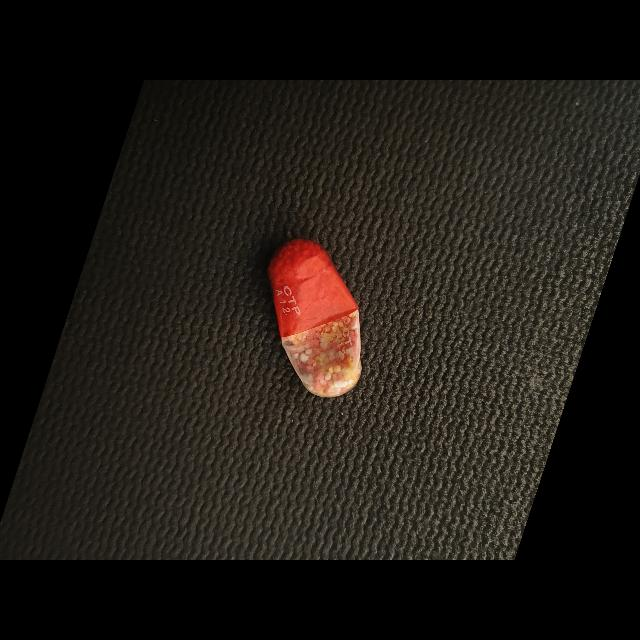Defective Capsule: (268, 239, 362, 397)
